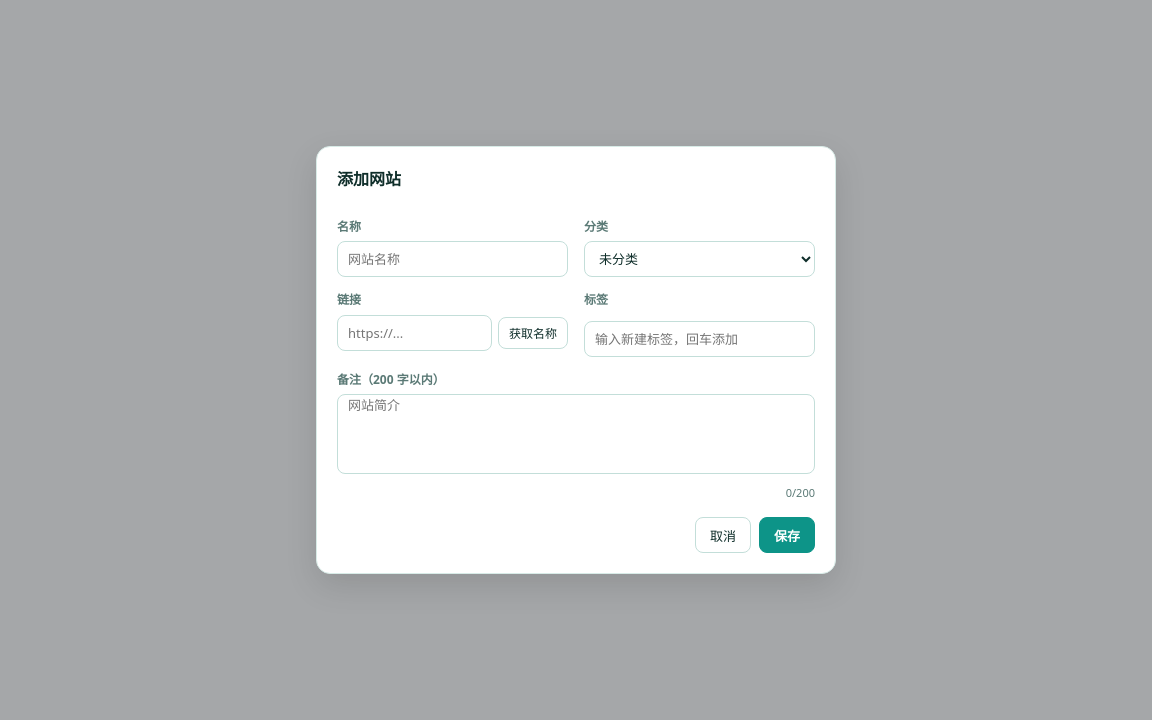
Scenario: AddEditModal › shows validation error for empty name
Click the button "保存": (787, 535) [759, 517, 815, 553]
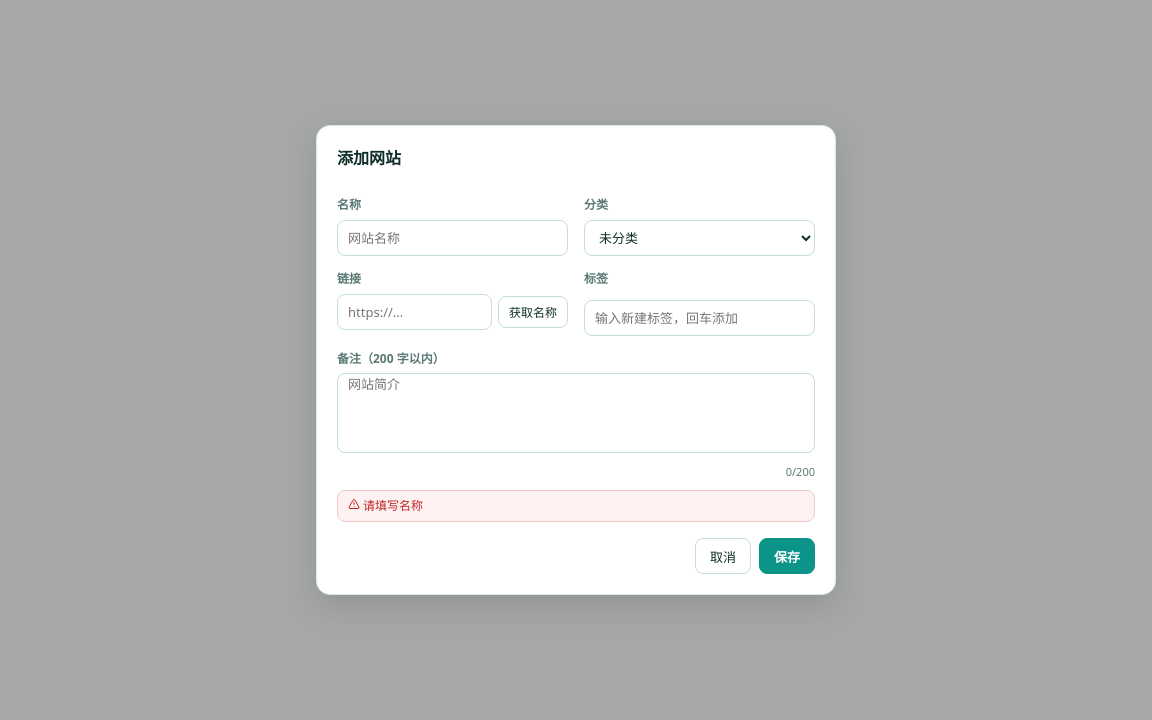
Expected: the text "请填写名称" is shown, [337, 490, 815, 522]
